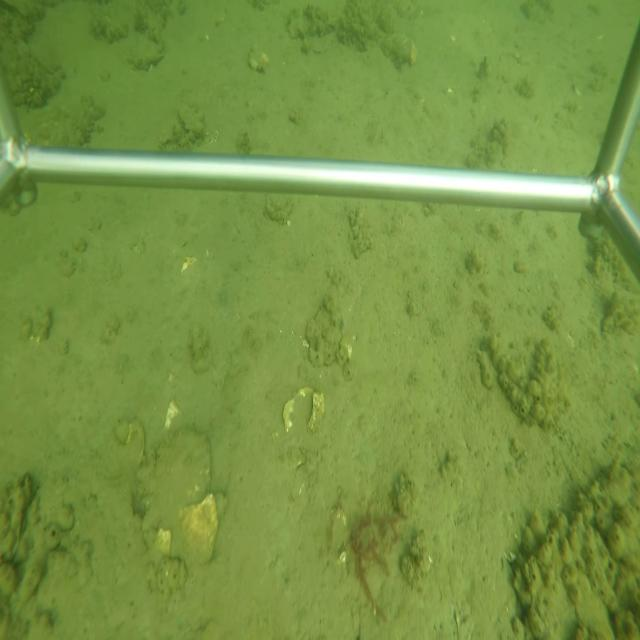Oyster-Closed: (176, 98, 205, 138)
Oyster-Indeterminate: (136, 425, 219, 563)
